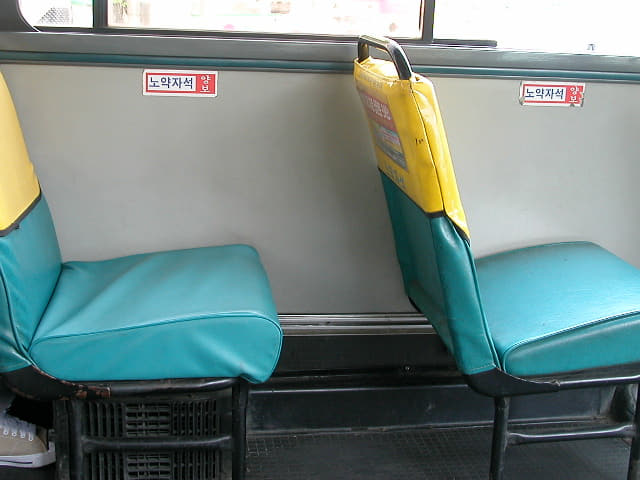seat: (2, 71, 281, 387)
